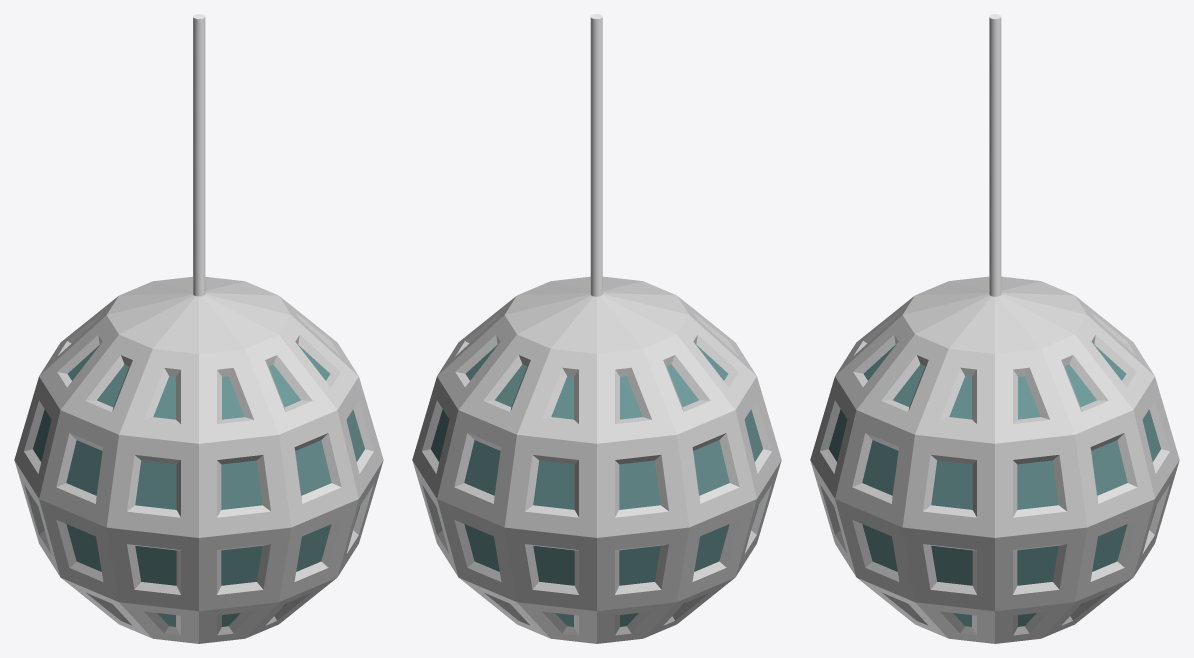
The model's file is Gallery Light.FBX.
The picture shows the model from 3 angles, left to right: view 1: azimuth 30°, elevation 25°; view 2: azimuth 150°, elevation 25°; view 3: azimuth 270°, elevation 25°; orthographic projection.
Parts seen in each view (by area): view 1: Gallery Light, Gallery Light String; view 2: Gallery Light, Gallery Light String; view 3: Gallery Light, Gallery Light String.
Boxes of the visible parts, x1,y1,x2,y2 form: Gallery Light: [14, 276, 383, 643]; Gallery Light String: [193, 14, 205, 296]; Gallery Light: [412, 276, 781, 643]; Gallery Light String: [590, 14, 602, 296]; Gallery Light: [810, 276, 1179, 643]; Gallery Light String: [989, 14, 1001, 296].
Bounding box in the file's own units: 0.6 × 1.09 × 0.6.
